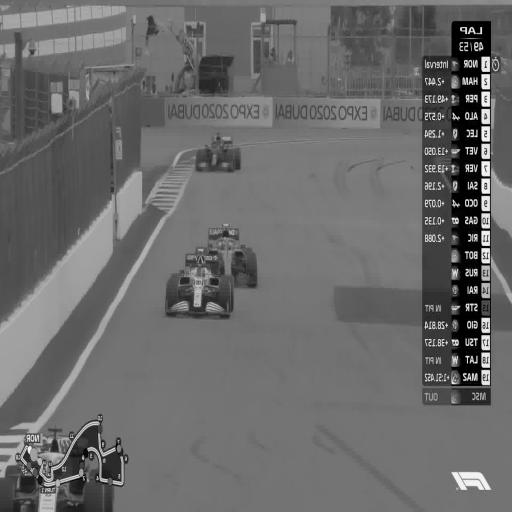f1_car: (0, 458, 114, 511), (166, 248, 234, 317), (208, 224, 258, 287), (196, 133, 241, 172), (36, 432, 70, 467), (67, 440, 87, 467), (53, 429, 58, 431), (221, 265, 222, 273)
